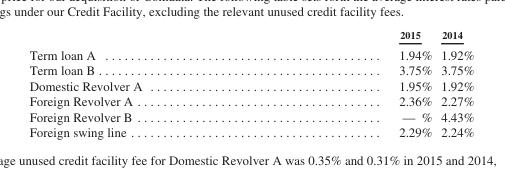table: (28, 28, 473, 139)
table column: (28, 28, 269, 139), (269, 28, 435, 139), (435, 28, 473, 139)
table column header: (28, 28, 473, 43)
table row: (28, 43, 473, 62), (28, 77, 473, 93), (28, 108, 473, 124), (28, 28, 473, 43), (28, 62, 473, 77), (28, 93, 473, 108), (28, 124, 473, 139)
